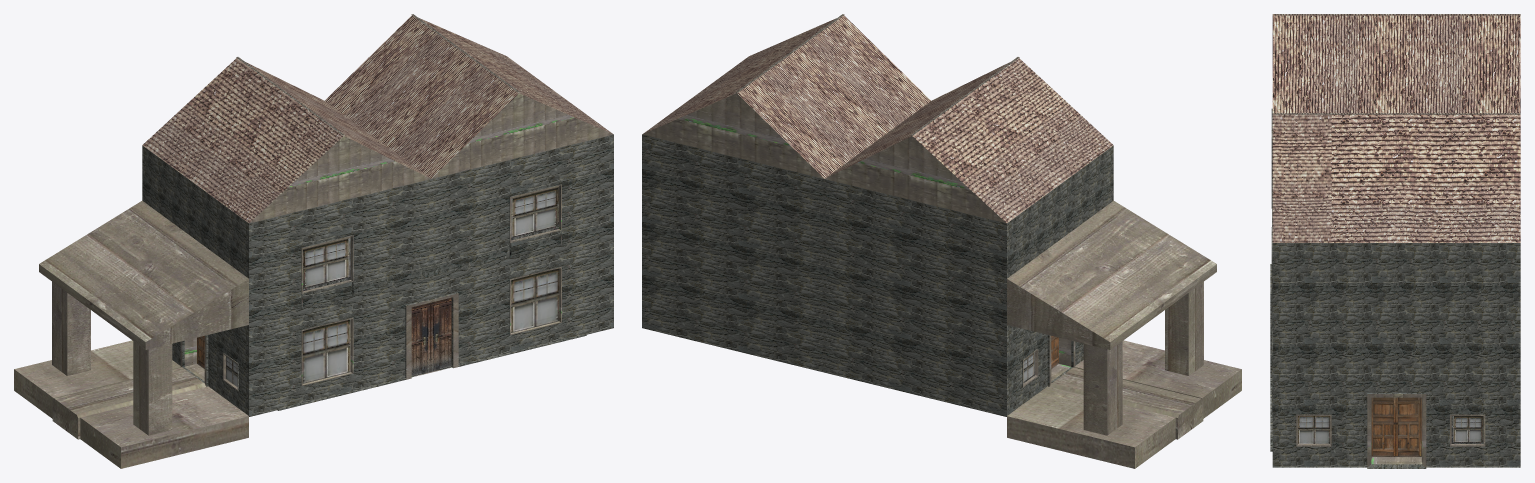
Rendered from house.fbx.
3 renders of one model, left to right at view 1: azimuth 30°, elevation 25°; view 2: azimuth 150°, elevation 25°; view 3: azimuth 270°, elevation 25°, orthographic. The views are drawn at different scales.
Visible parts, largest first — view 1: Cube, Cube.001, Cube.002; view 2: Cube, Cube.001, Cube.002; view 3: Cube.
Part boxes in pixels (x1,y1,x2,y2): Cube: [142, 14, 613, 416]; Cube.001: [39, 200, 248, 435]; Cube.002: [14, 340, 248, 468]; Cube: [642, 14, 1113, 416]; Cube.001: [1007, 200, 1216, 435]; Cube.002: [1007, 340, 1241, 468]; Cube: [1270, 14, 1520, 468].
Size of the model in its own units: 2686 by 1443 by 1010.
